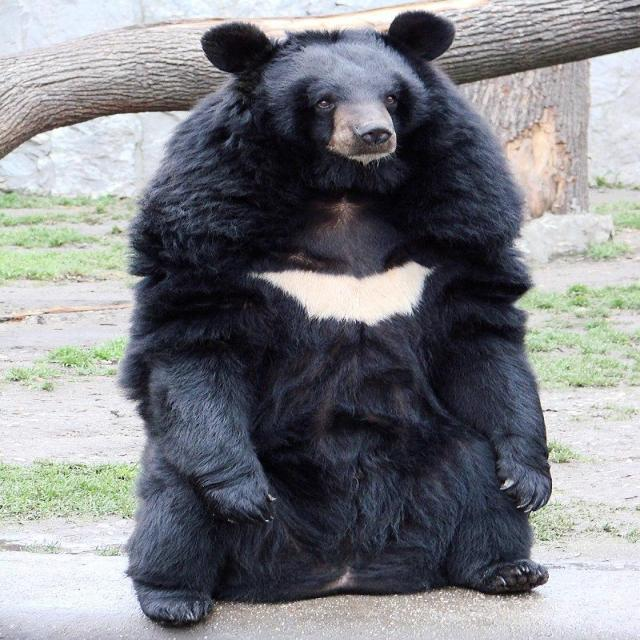Bear: (118, 10, 554, 630)
